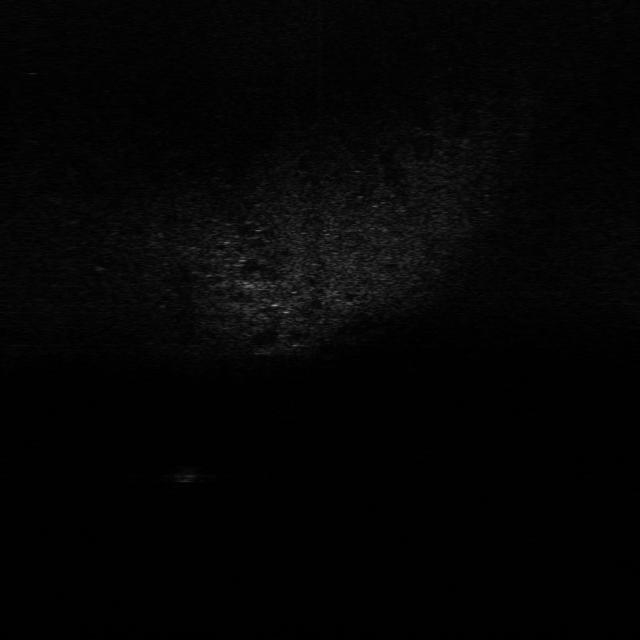cylinder: (167, 463, 197, 486)
